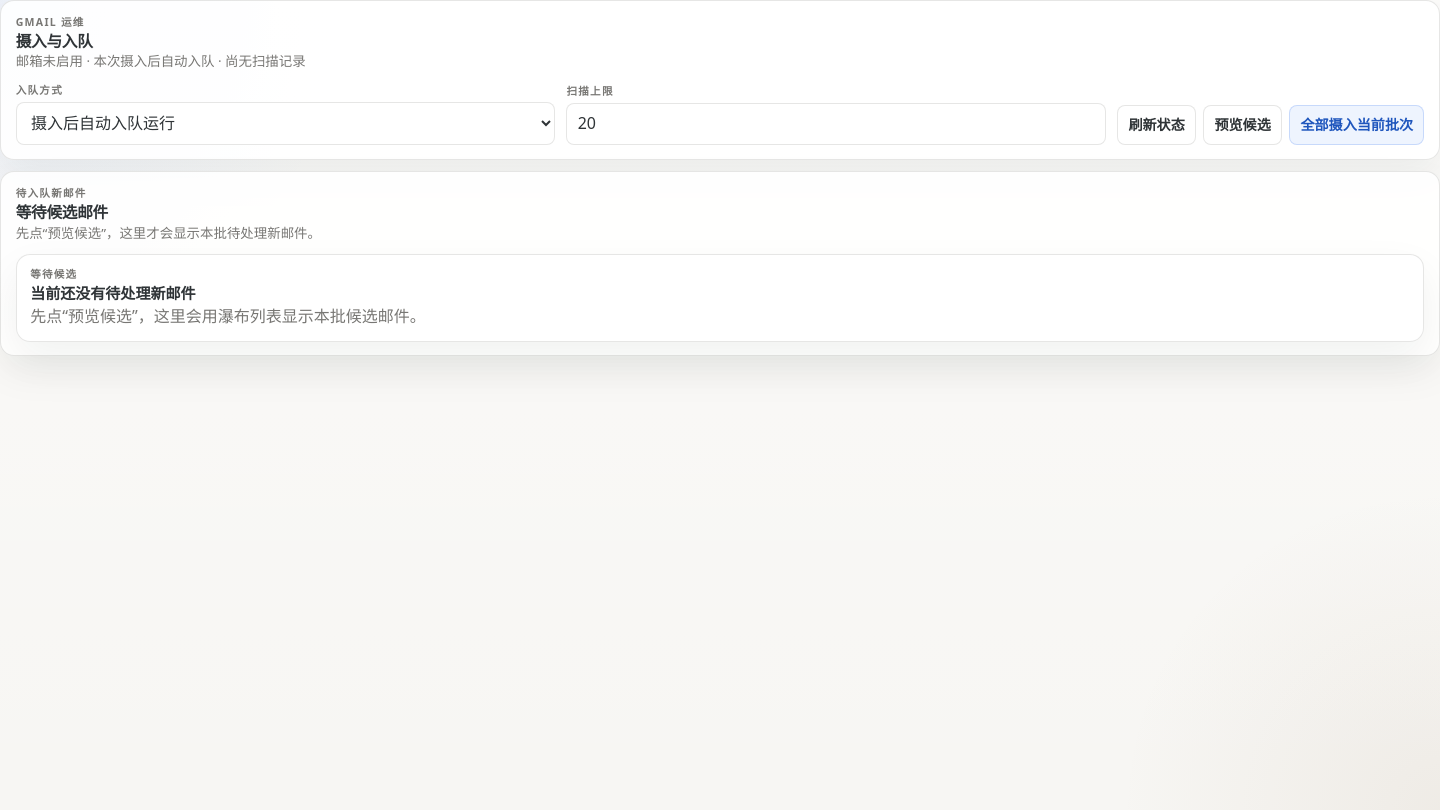
Test case: GmailOpsPageV2 › surfaces API failures for preview requests
The image size is (1440, 810).
Check: the text "邮箱未启用 · 本次摄入后自动入队 · 尚无扫描记录" is shown, box [16, 52, 306, 71]
Click the button "预览候选" at x=1243, y=125, box [1203, 105, 1282, 145]
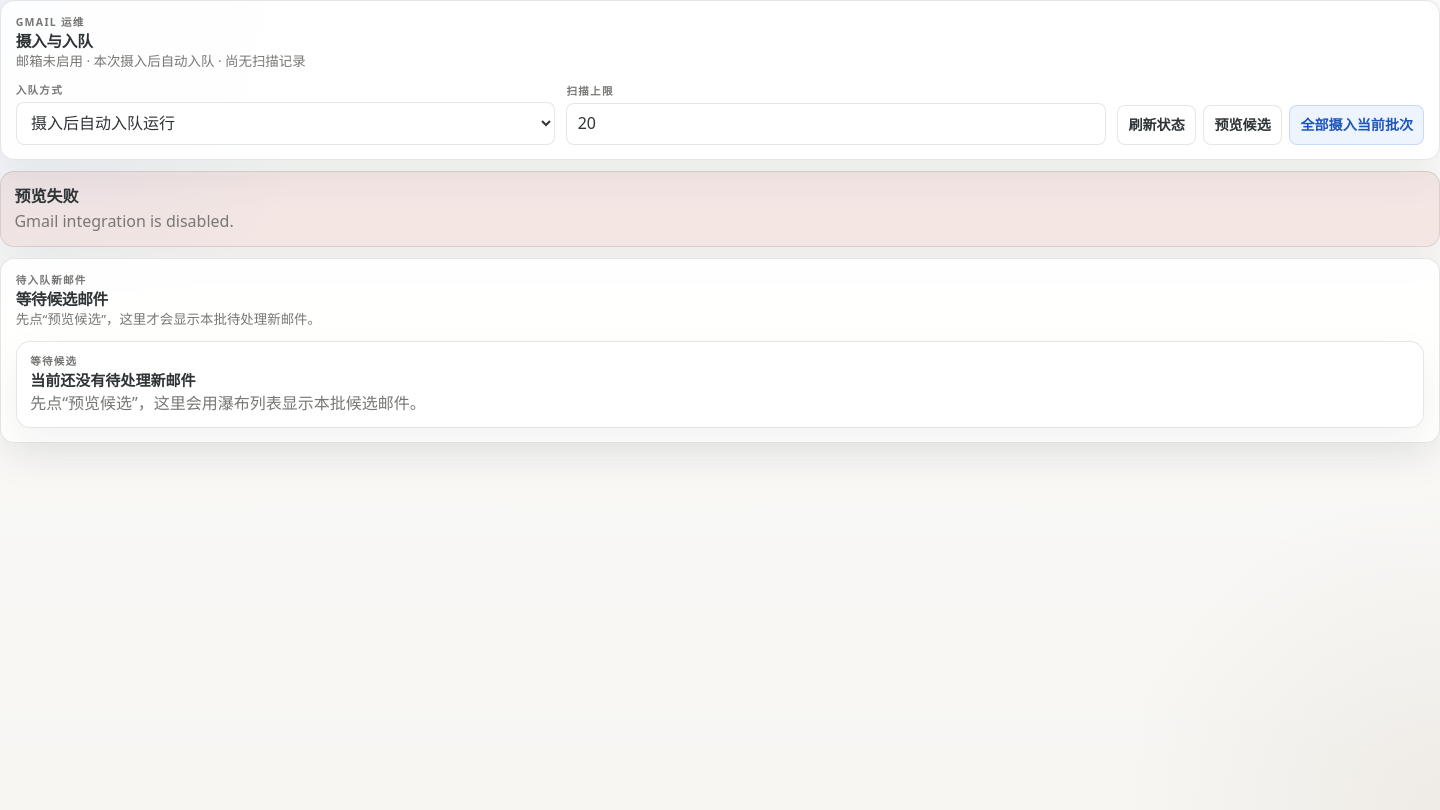
Check: the text "邮箱未启用 · 本次摄入后自动入队 · 尚无扫描记录" is shown, box [16, 52, 306, 71]
Check: the text "预览失败" is shown, box [14, 184, 78, 206]
Check: the text "Gmail integration is disabled." is shown, box [14, 210, 234, 232]
